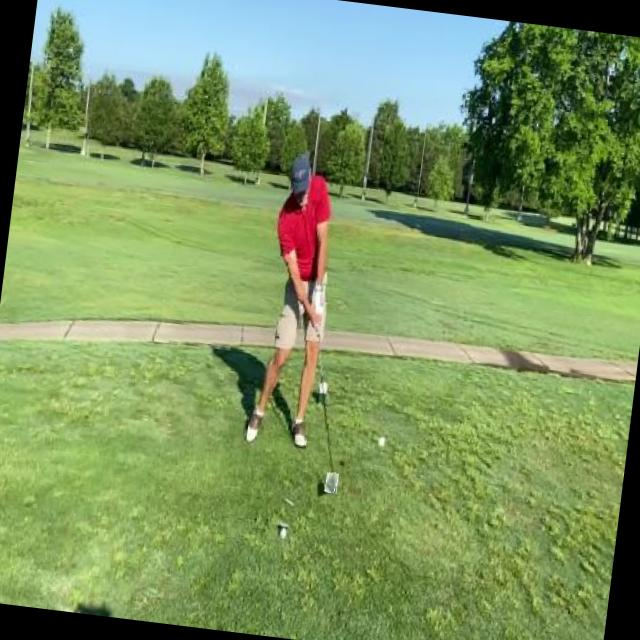club head: (324, 472, 338, 493)
